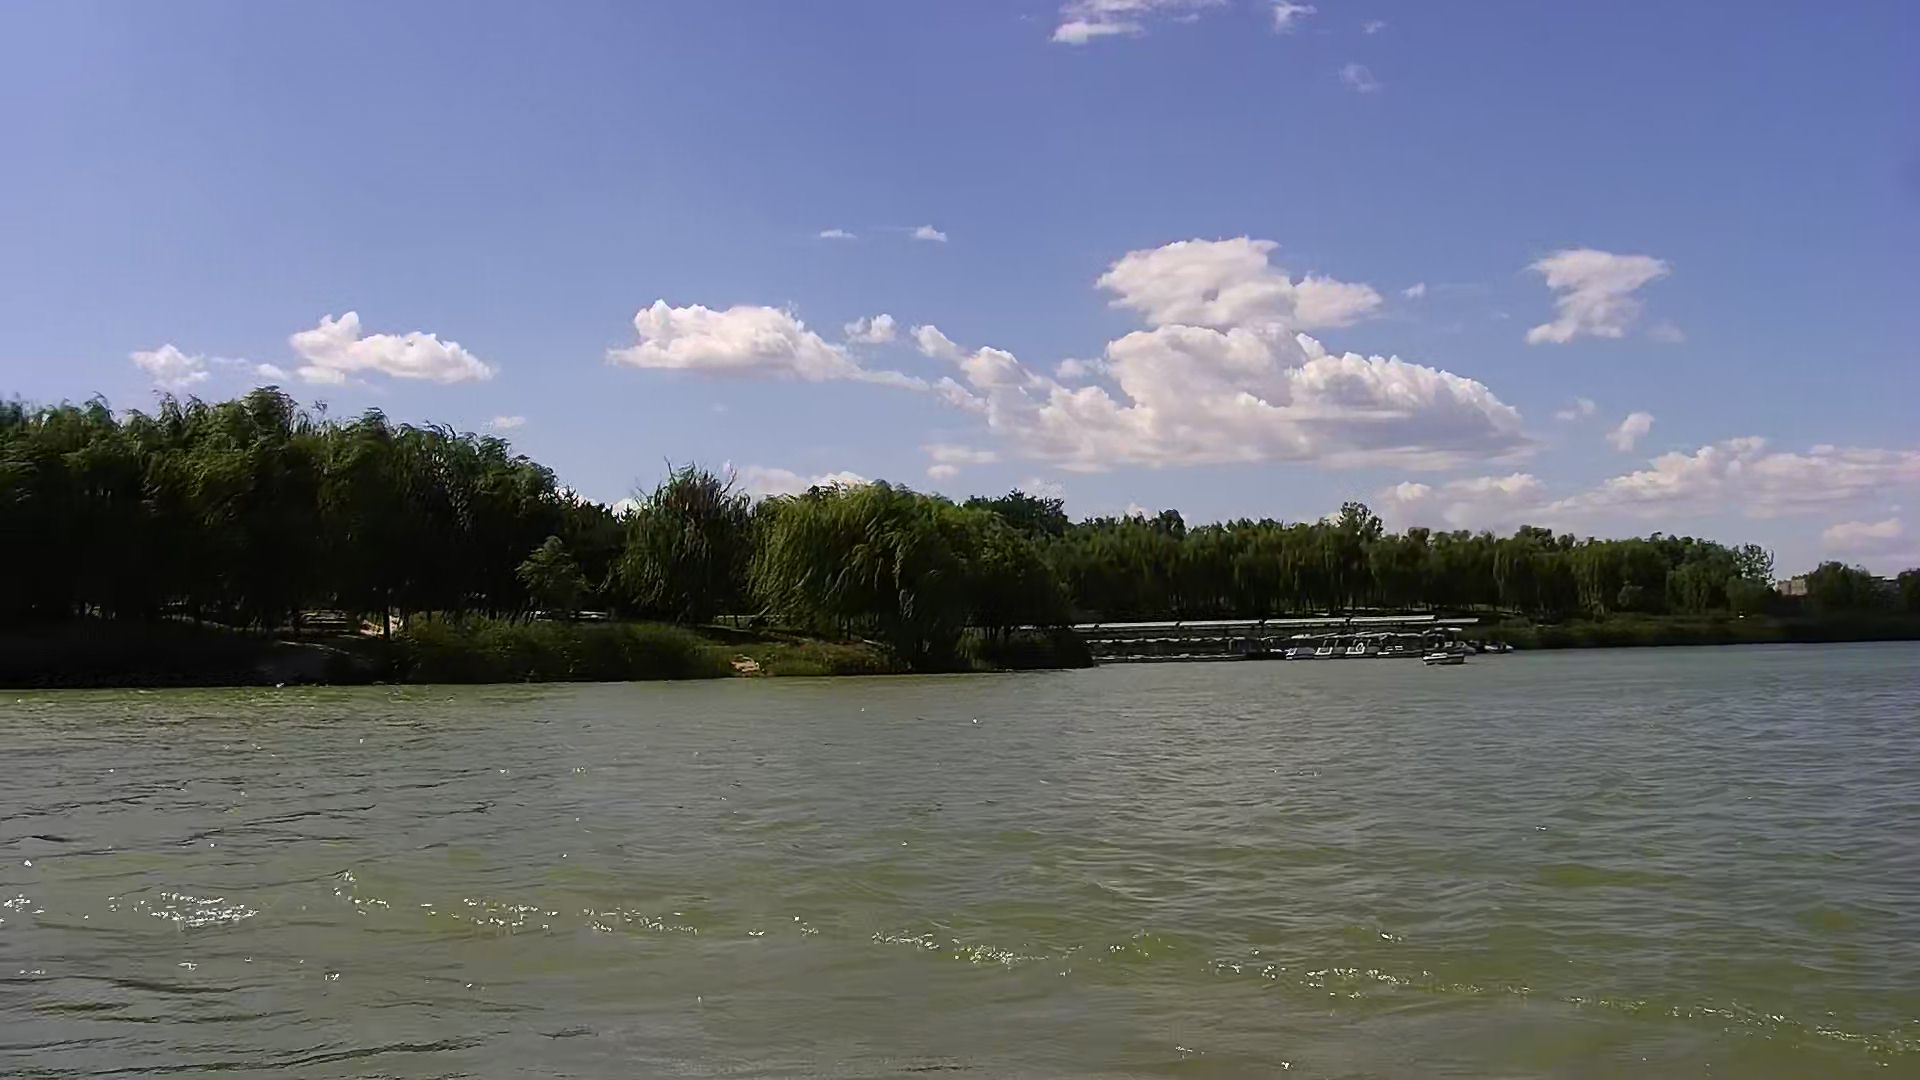boat: (1374, 629, 1422, 661), (1344, 632, 1389, 655), (1315, 633, 1354, 659), (1283, 636, 1317, 659), (1420, 649, 1462, 665)
harbor: (1098, 615, 1486, 665)
